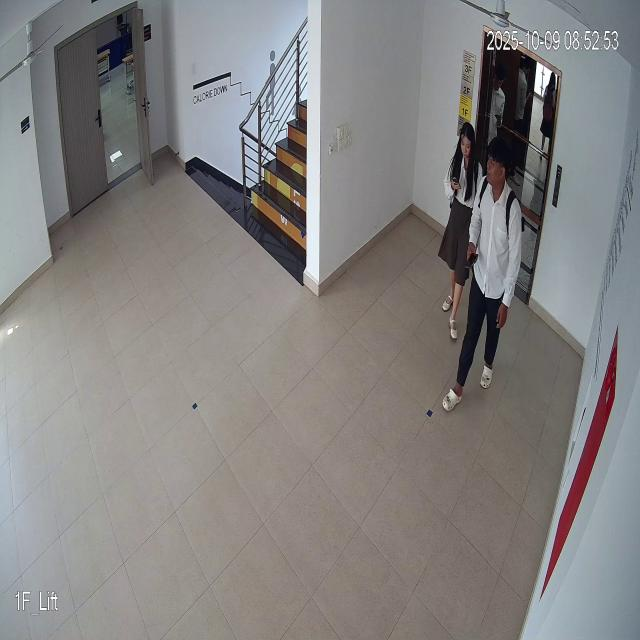face: (484, 133, 518, 198), (458, 118, 477, 162)
